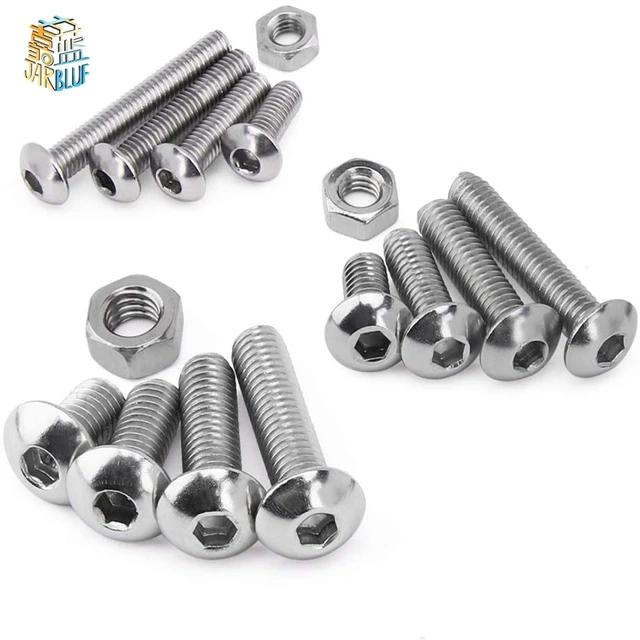Logam: (12, 254, 364, 576), (307, 133, 627, 422), (13, 14, 330, 224)
